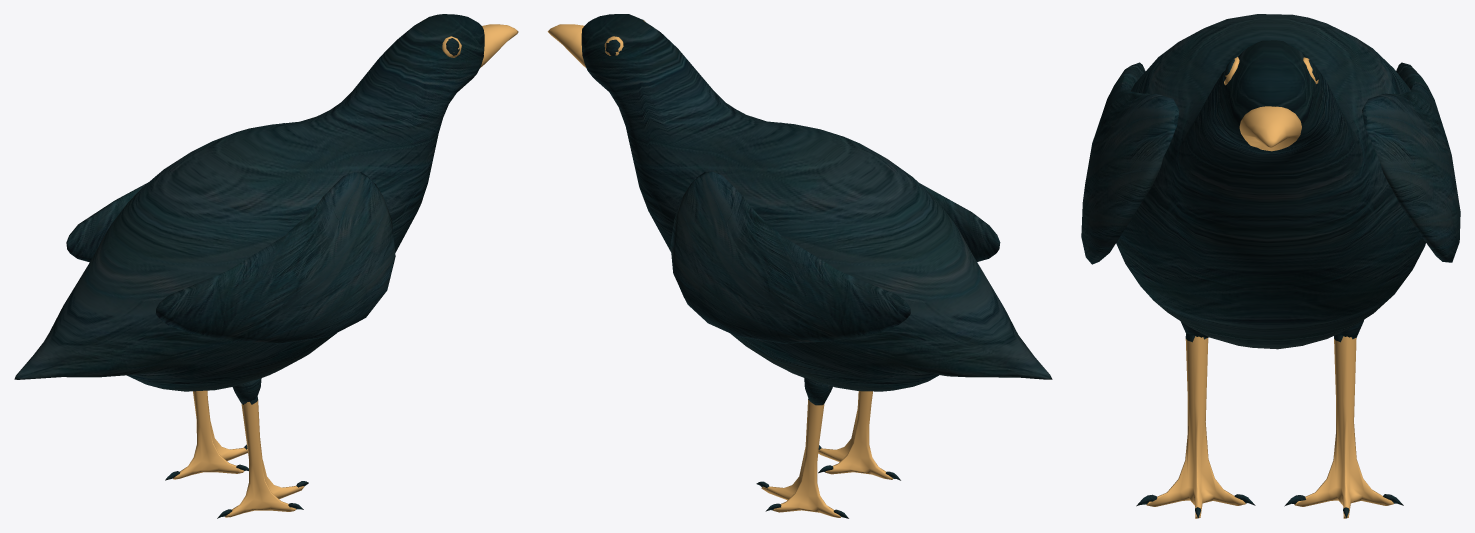
File: gavilan.fbx
3 views of the same model, side by side, from view 1: azimuth 30°, elevation 25°; view 2: azimuth 150°, elevation 25°; view 3: azimuth 270°, elevation 25° (orthographic). The views are drawn at different scales.
Visible parts, largest first — view 1: gavilan; view 2: gavilan; view 3: gavilan.
Boxes of the visible parts, left/top/right/bottom form: gavilan: left=14, top=14, right=518, bottom=518; gavilan: left=547, top=14, right=1052, bottom=518; gavilan: left=1081, top=14, right=1460, bottom=518.
Bounding box in the file's own units: 96.21 × 77.12 × 44.01.
3 materials, 3 textured.
